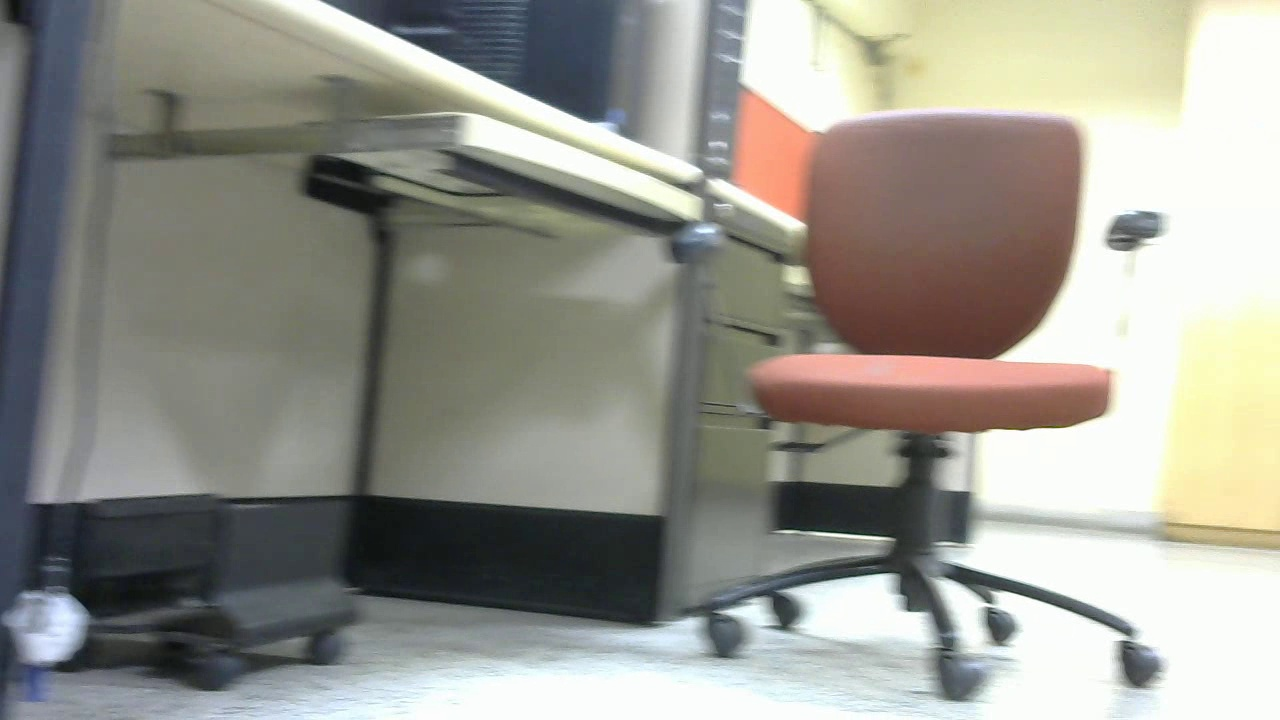chair: (321, 212, 569, 529), (1, 155, 143, 493)
